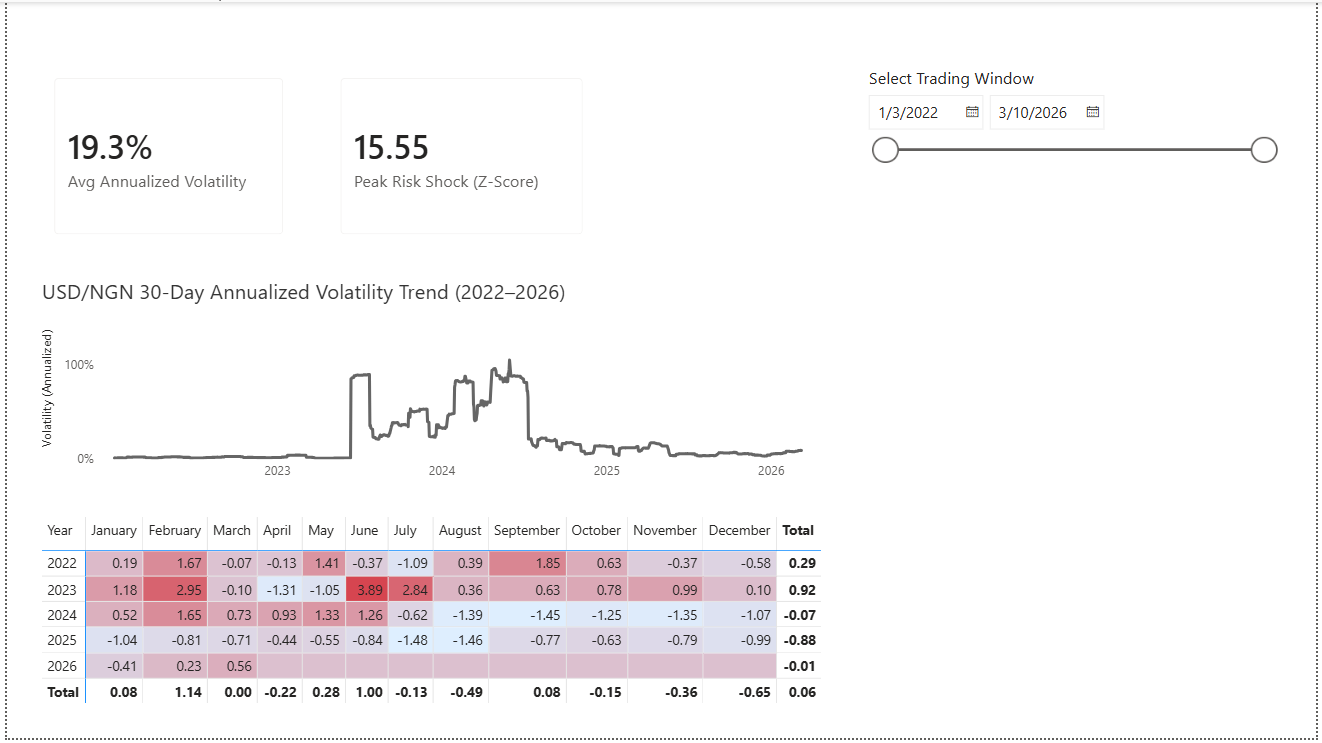

What the dashboard file says about the page in this screenshot:
{"tool":"powerbi","page":{"name":"Page 1","canvas":[1280,720],"ordinal":0},"visuals":[{"type":"lineChart","title":"USD/NGN 30-Day Annualized Volatility Trend (2022–2026)","fields":{"Y":["Sum(naira_volatility_data csv.vol_annualized_30d)"],"Category":["naira_volatility_data csv.trade_date"]},"box":[29.7,268.5,766,207.6],"z":0},{"type":"pivotTable","fields":{"Rows":["naira_volatility_data csv.trade_date.Variation.Date Hierarchy.Year"],"Columns":["naira_volatility_data csv.trade_date.Variation.Date Hierarchy.Month"],"Values":["Avg(naira_volatility_data csv.vol_z_score)"]},"box":[29.7,499.2,787.4,220.7],"z":1},{"type":"cardVisual","fields":{"Data":["Avg(naira_volatility_data csv.vol_annualized_30d)"]},"box":[29.7,57.7,258.6,187.8],"z":2},{"type":"cardVisual","fields":{"Data":["Max(naira_volatility_data csv.vol_z_score)"]},"box":[309.7,57.7,271.8,187.8],"z":3},{"type":"slicer","fields":{"Values":["naira_volatility_data csv.trade_date"]},"box":[830.3,57.7,420.1,619.4],"z":4}]}

Visuals, with their boxes in screenshot pixels (x1, y1, x2, y2), scaled from the page's 1280x720 canvas onto the 1322x743 screenshot:
"USD/NGN 30-Day Annualized Volatility Trend (2022–2026)" lineChart: (31,277,822,491)
pivotTable - naira_volatility_data csv.trade_date.Variation.Date Hierarchy.Year x naira_volatility_data csv.trade_date.Variation.Date Hierarchy.Month: (31,515,844,742)
cardVisual - Avg(naira_volatility_data csv.vol_annualized_30d): (31,60,298,253)
cardVisual - Max(naira_volatility_data csv.vol_z_score): (320,60,601,253)
slicer - naira_volatility_data csv.trade_date: (858,60,1291,699)
